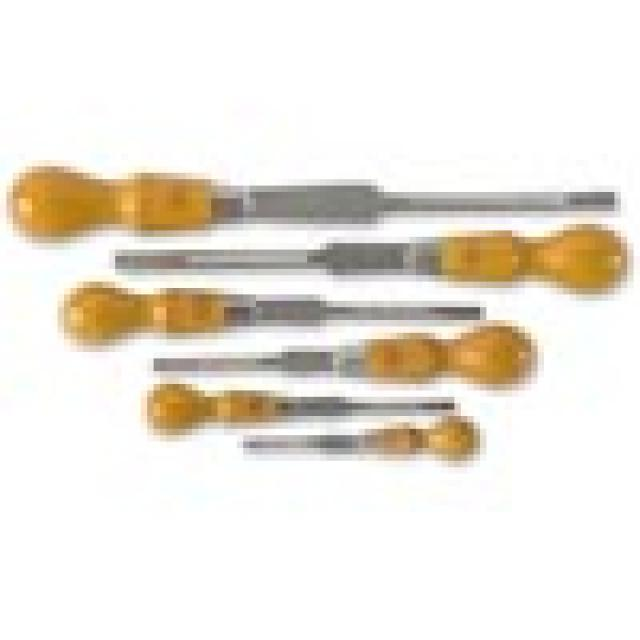screwdriver: (1, 154, 623, 238), (95, 223, 638, 296), (30, 274, 502, 334), (134, 324, 555, 385), (124, 380, 474, 428), (227, 414, 482, 460)
